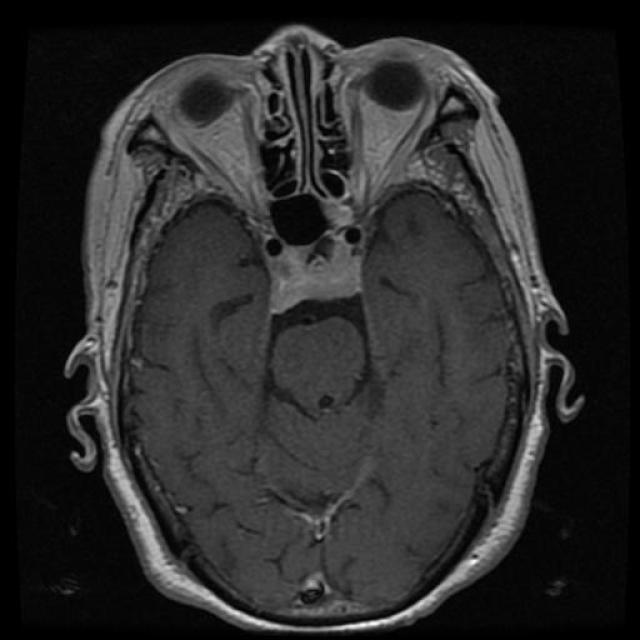pituitary: (250, 236, 383, 327)
